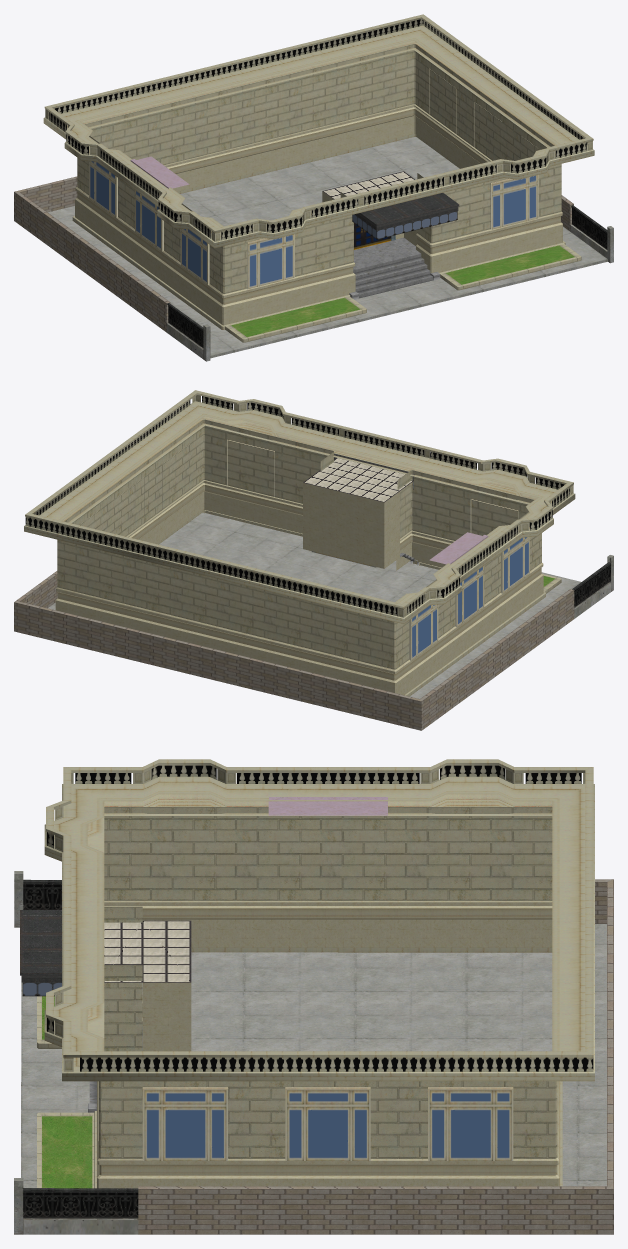
The model's file is BuildingA_Base-0.obj.
3 renders of one model, top to bottom at view 1: azimuth 30°, elevation 25°; view 2: azimuth 150°, elevation 25°; view 3: azimuth 270°, elevation 25°, orthographic. The views are drawn at different scales.
Parts seen in each view (by area): view 1: ct2_02_n1_tk1_builbaseA1_13; view 2: ct2_02_n1_tk1_builbaseA1_13; view 3: ct2_02_n1_tk1_builbaseA1_13.
Part boxes in pixels (x1=…): ct2_02_n1_tk1_builbaseA1_13: x1=14, y1=14, x2=613, y2=361; ct2_02_n1_tk1_builbaseA1_13: x1=14, y1=390, x2=613, y2=730; ct2_02_n1_tk1_builbaseA1_13: x1=14, y1=759, x2=613, y2=1234.
Size of the model in its own units: 26.35 by 6.99 by 21.56.
